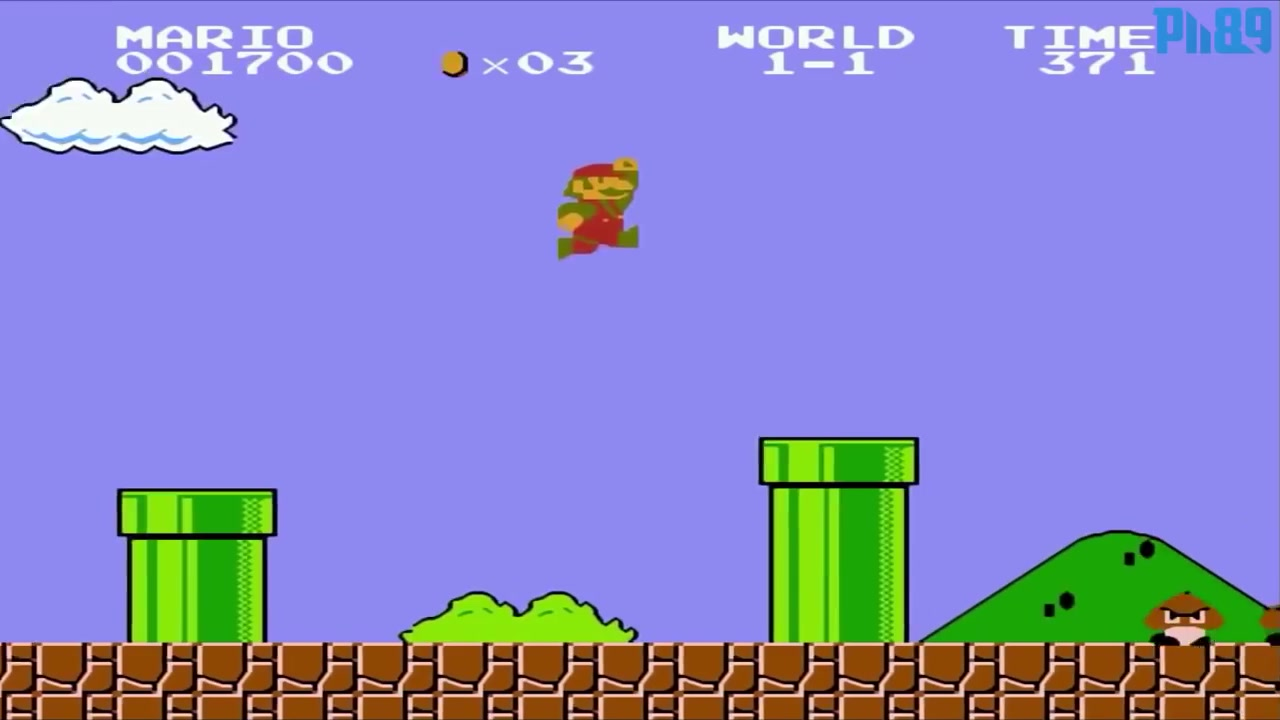mario: (546, 152, 644, 264)
